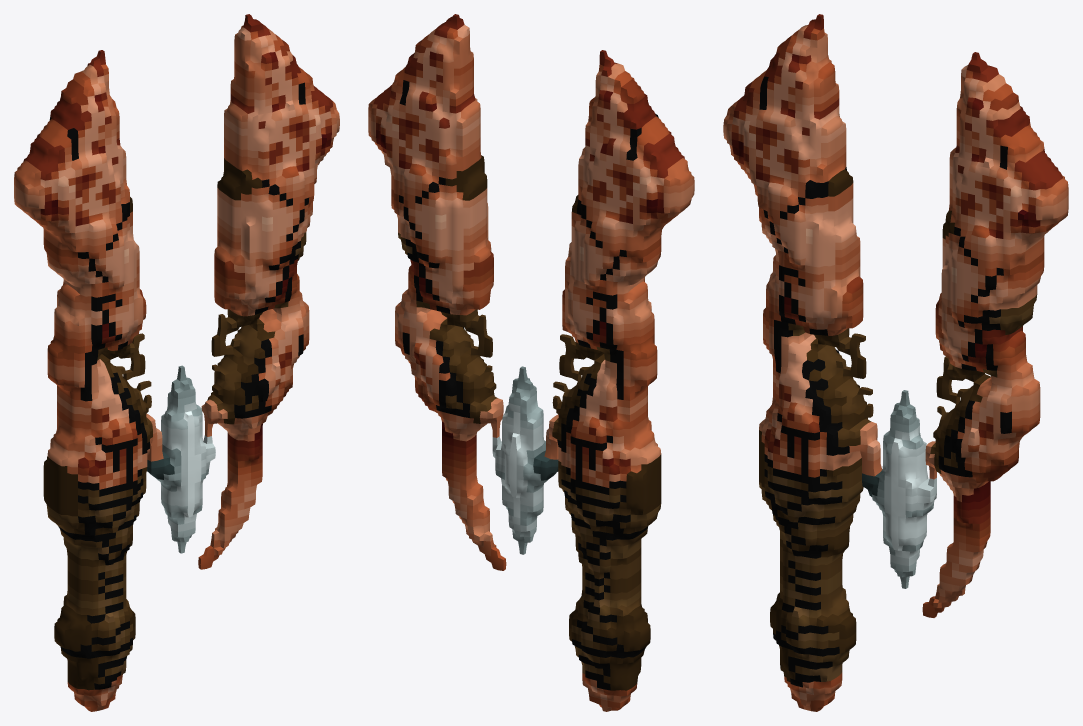
Rendered from Fight_706_2_08.obj.
3 views of the same model, side by side, from view 1: azimuth 30°, elevation 25°; view 2: azimuth 150°, elevation 25°; view 3: azimuth 330°, elevation 25° (orthographic). The views are drawn at different scales.
Size of the model in its own units: 4.7 by 9.38 by 1.
Materials: 1 (1 with a texture image).
